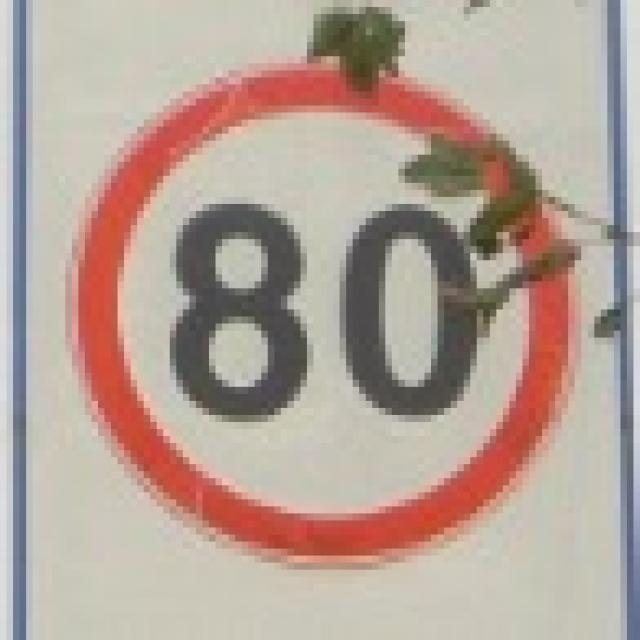Speed Limit -80-: (168, 196, 497, 432)
